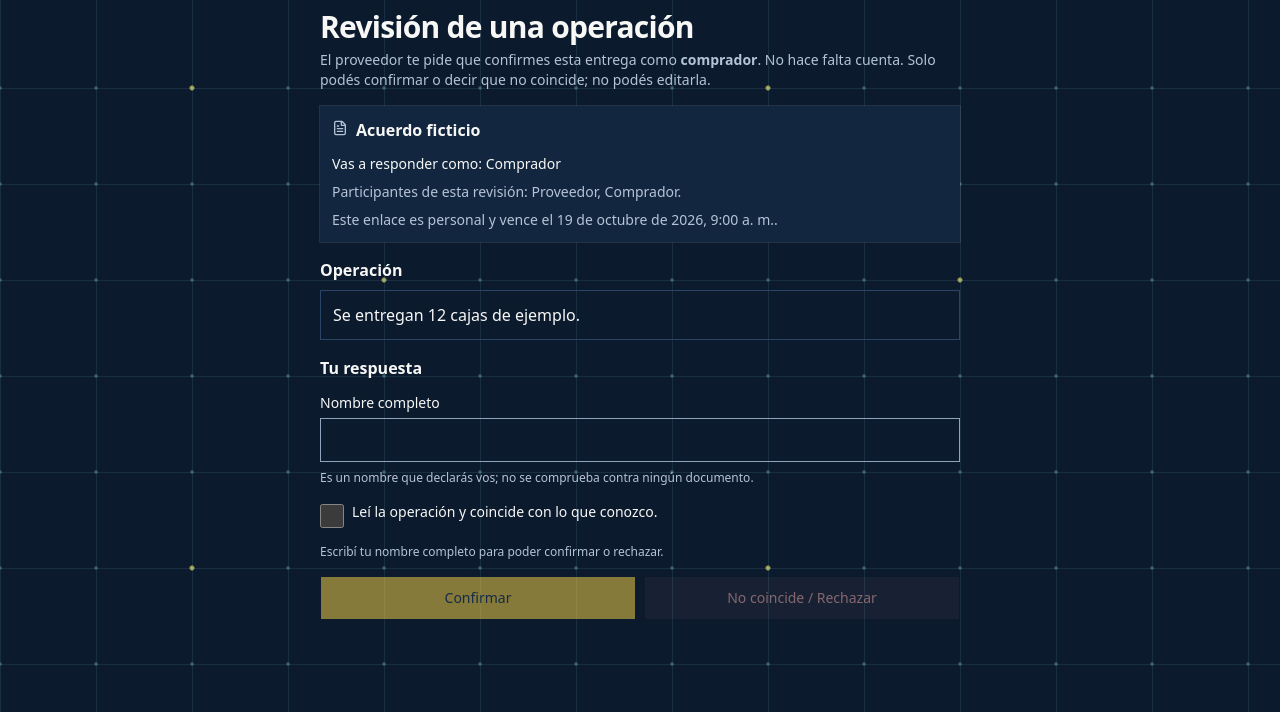
Test: ConfirmationContainer › una respuesta que no cumple el contrato no se muestra como éxito
The width and height of the screenshot is (1280, 712).
Type "Juan Pérez" into the field labelled "Nombre completo" at x=640, y=440, box [320, 418, 960, 462]
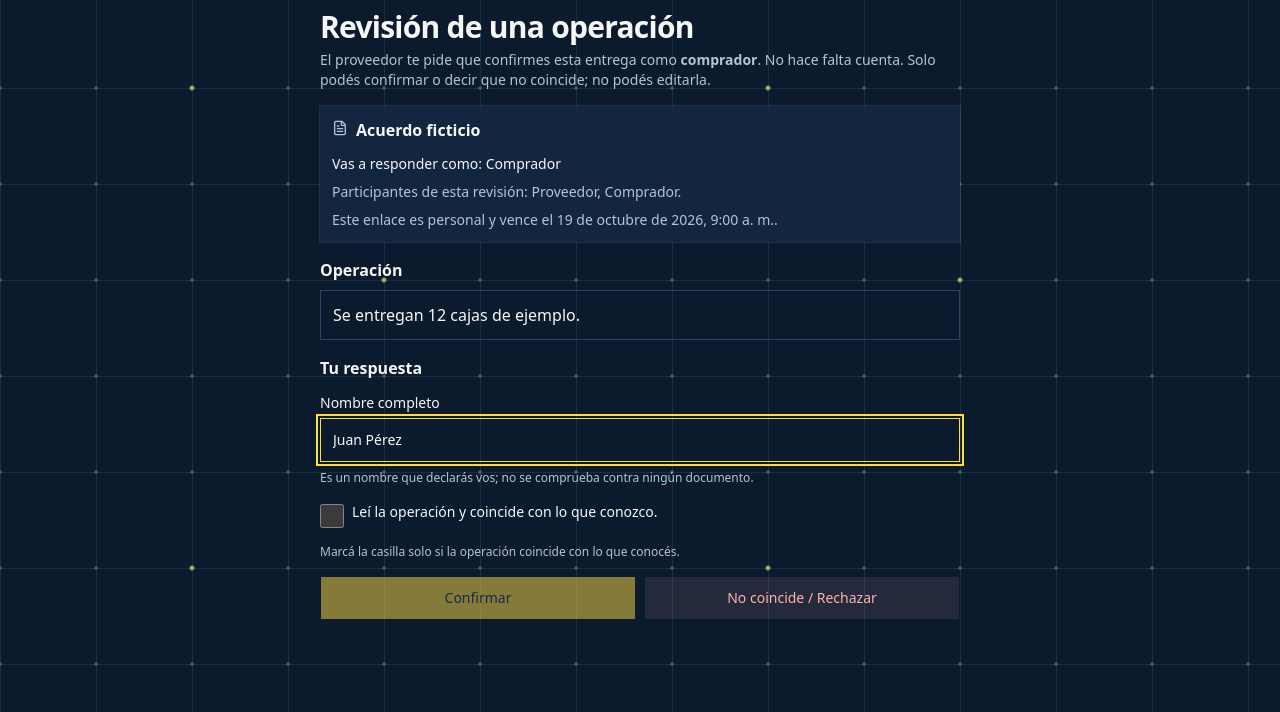
Click the checkbox at x=332, y=516, box [320, 504, 344, 528]
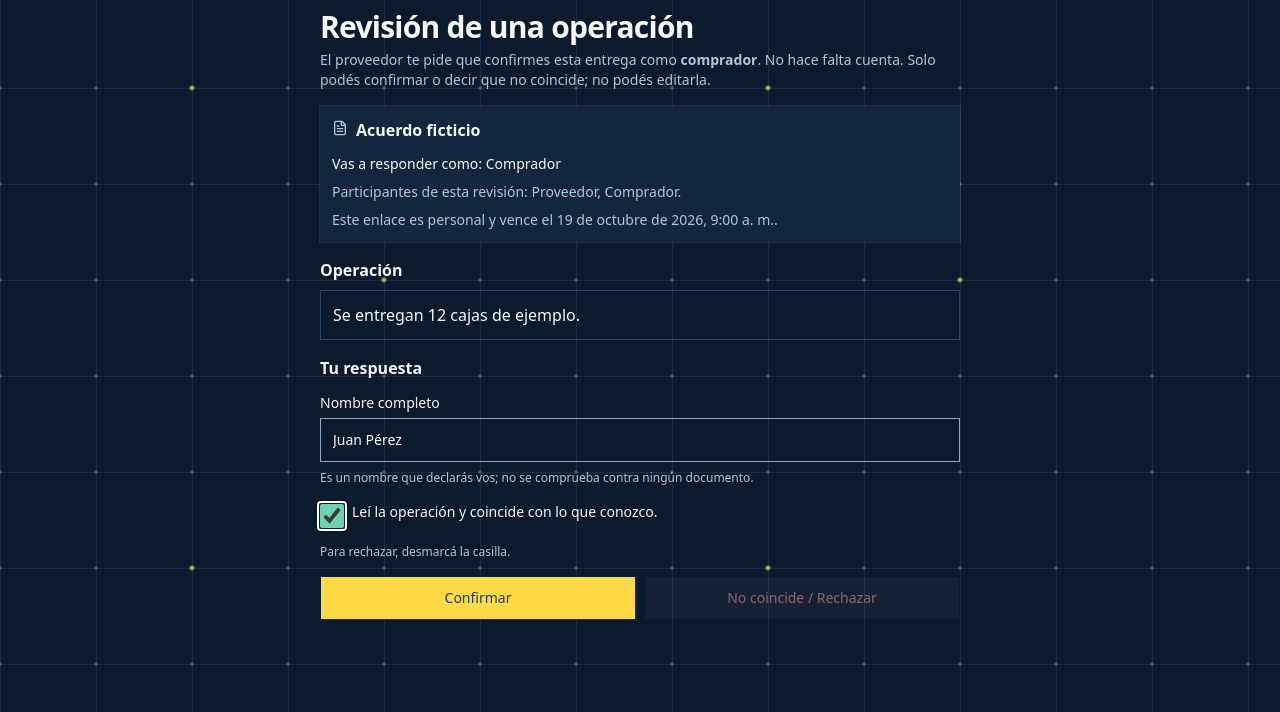
Click the button "Confirmar" at x=478, y=598, box [320, 576, 636, 620]
(page scrolled)
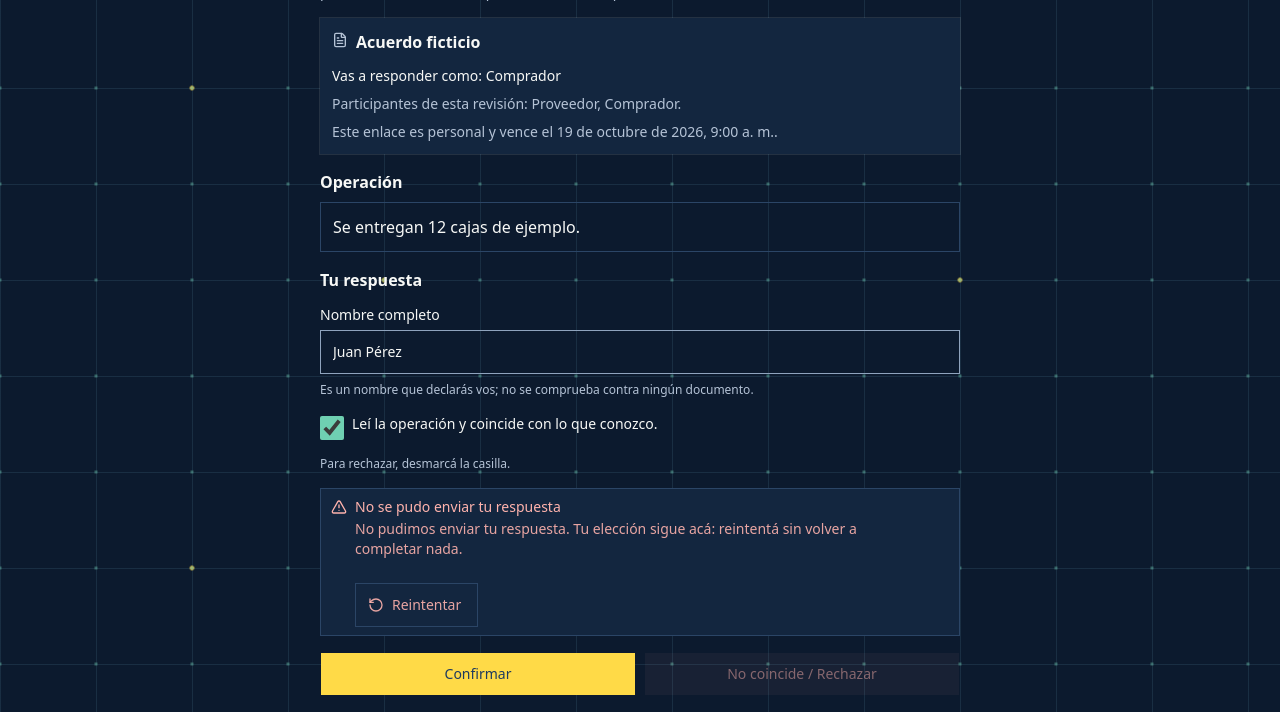
Result: the message is shown at [320, 488, 960, 636]
